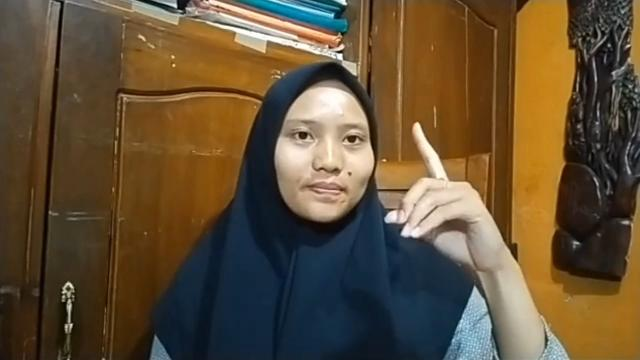D: (380, 119, 516, 276)
